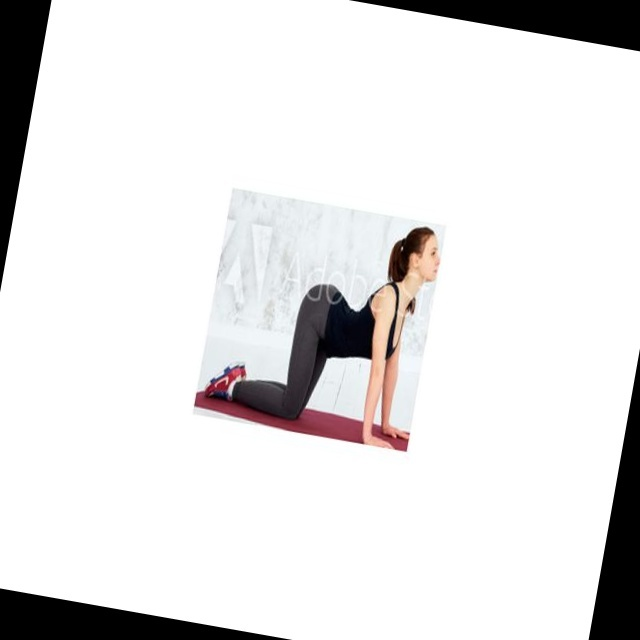Cow_Pose: (205, 228, 441, 449)
